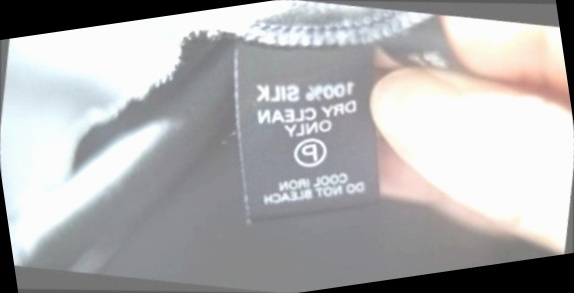dry_clean_any_solvent_except_trichloroethylene: (283, 127, 336, 177)
